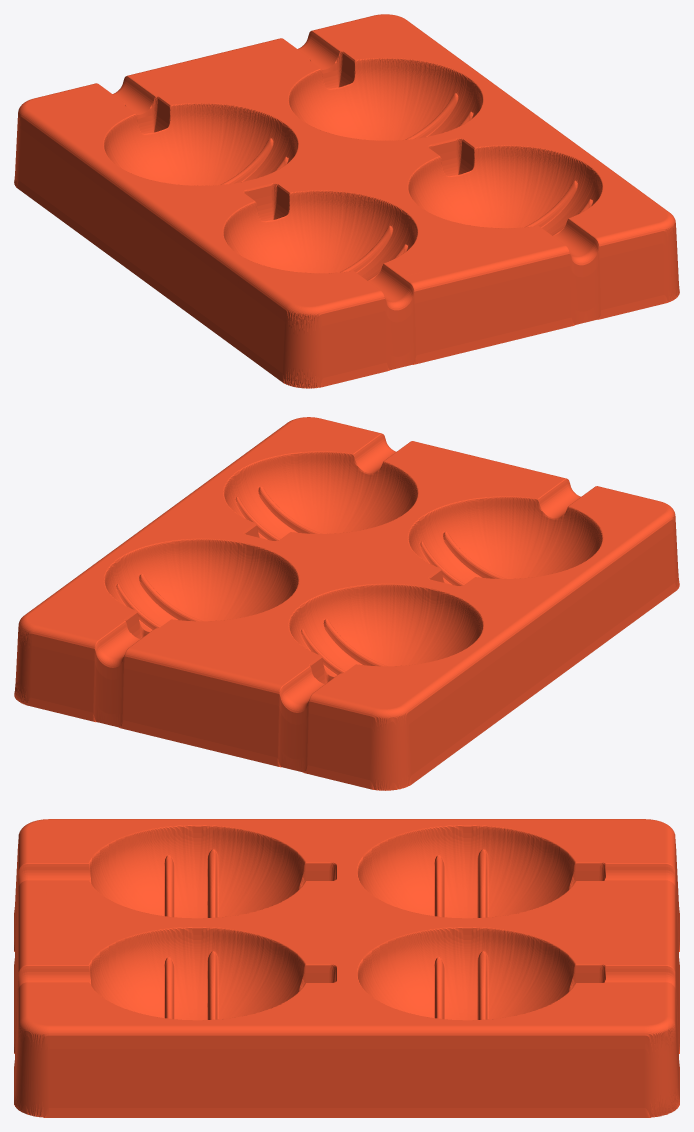
Rendered from mold.glb.
The picture shows the model from 3 angles, top to bottom: view 1: azimuth 30°, elevation 25°; view 2: azimuth 150°, elevation 25°; view 3: azimuth 270°, elevation 25°; orthographic projection. The views are drawn at different scales.
Parts seen in each view (by area): view 1: geometry_0; view 2: geometry_0; view 3: geometry_0.
Part boxes in pixels (x1,y1,x2,y2): geometry_0: [14, 14, 679, 388]; geometry_0: [14, 417, 679, 790]; geometry_0: [14, 819, 679, 1117].
Bounding box in the file's own units: 0.132 × 0.0245 × 0.171.
